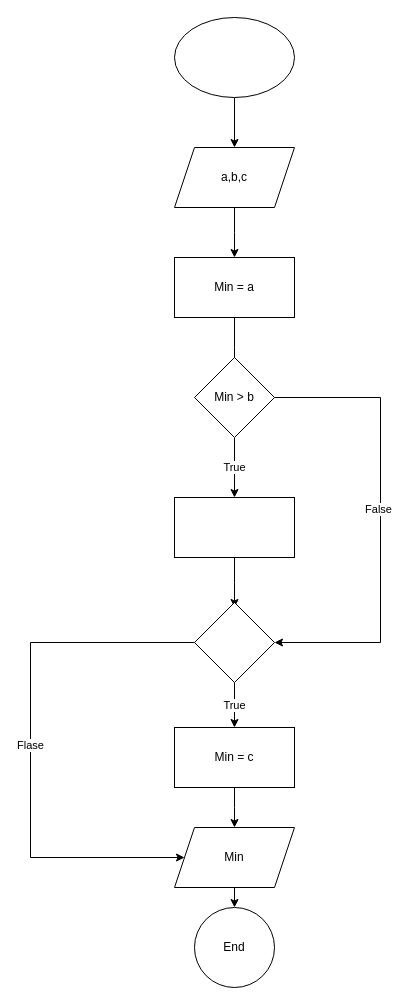
This 409x1005 diagram has some shape labels left out. The centre of each missing label's shape, as x and y in pixels:
Min = b: the point at 234,527
Min > c: the point at 234,642
Start: the point at 234,57
